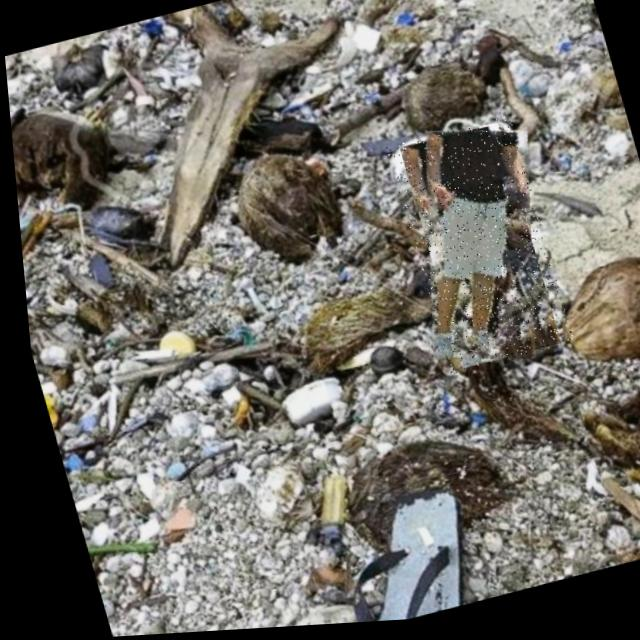Person in Rubble: (381, 119, 570, 383)
